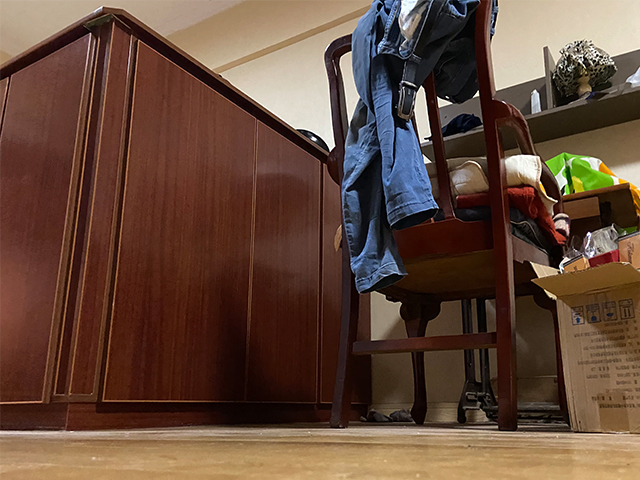cabinet: (1, 6, 373, 432)
socks: (359, 407, 414, 425)
stool: (323, 1, 556, 433)
